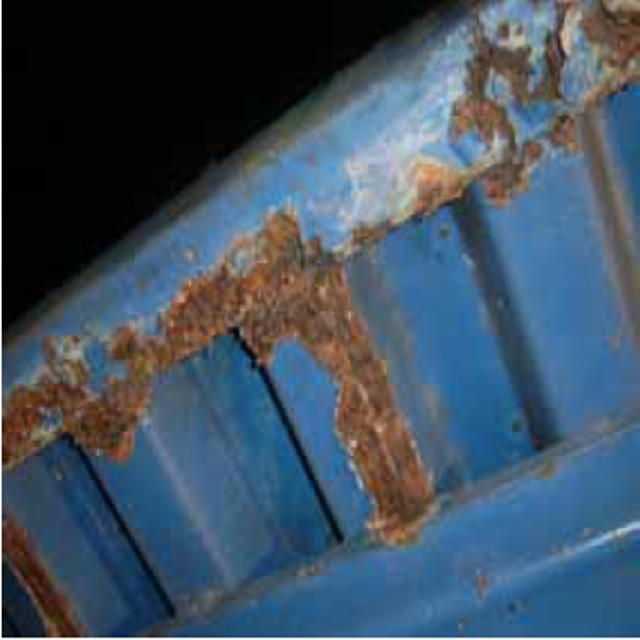corrosion: (4, 194, 426, 627), (452, 11, 638, 183)
